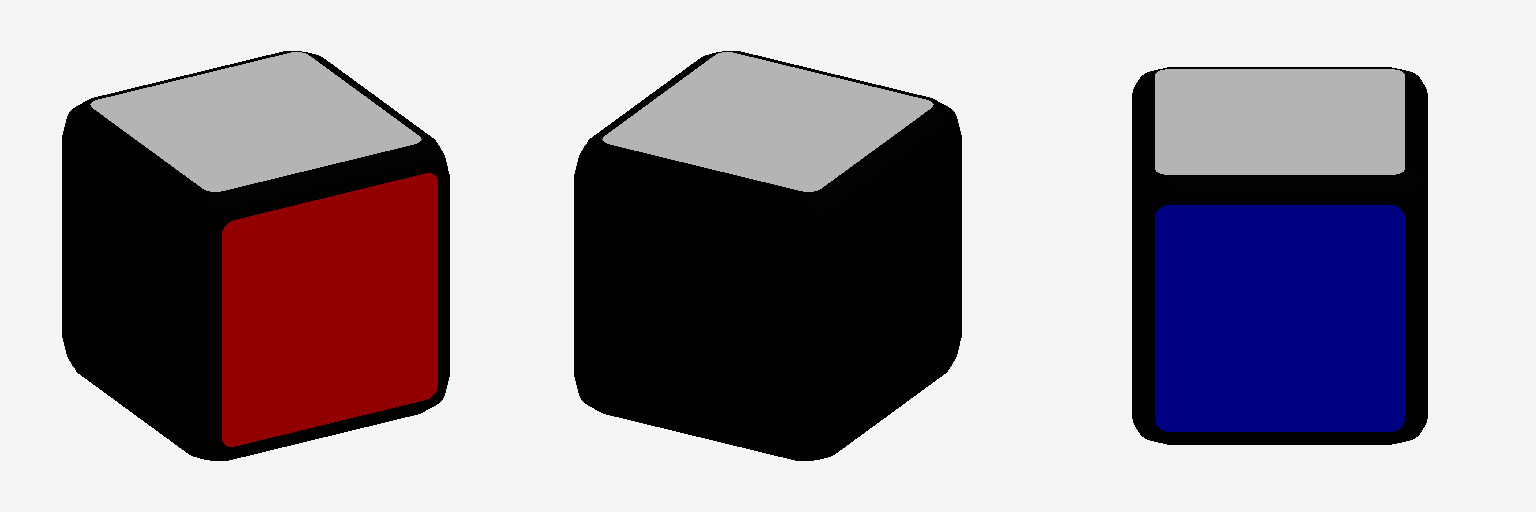
The model's file is corner_brw.obj.
The picture shows the model from 3 angles: view 1: azimuth 30°, elevation 25°; view 2: azimuth 150°, elevation 25°; view 3: azimuth 270°, elevation 25°; orthographic projection.
Parts seen in each view (by area): view 1: Cube; view 2: Cube; view 3: Cube.
Part boxes in pixels (x1,y1,x2,y2): Cube: (62, 51, 449, 460); Cube: (574, 51, 961, 460); Cube: (1132, 67, 1427, 444).
Size of the model in its own units: 2 by 2 by 2.